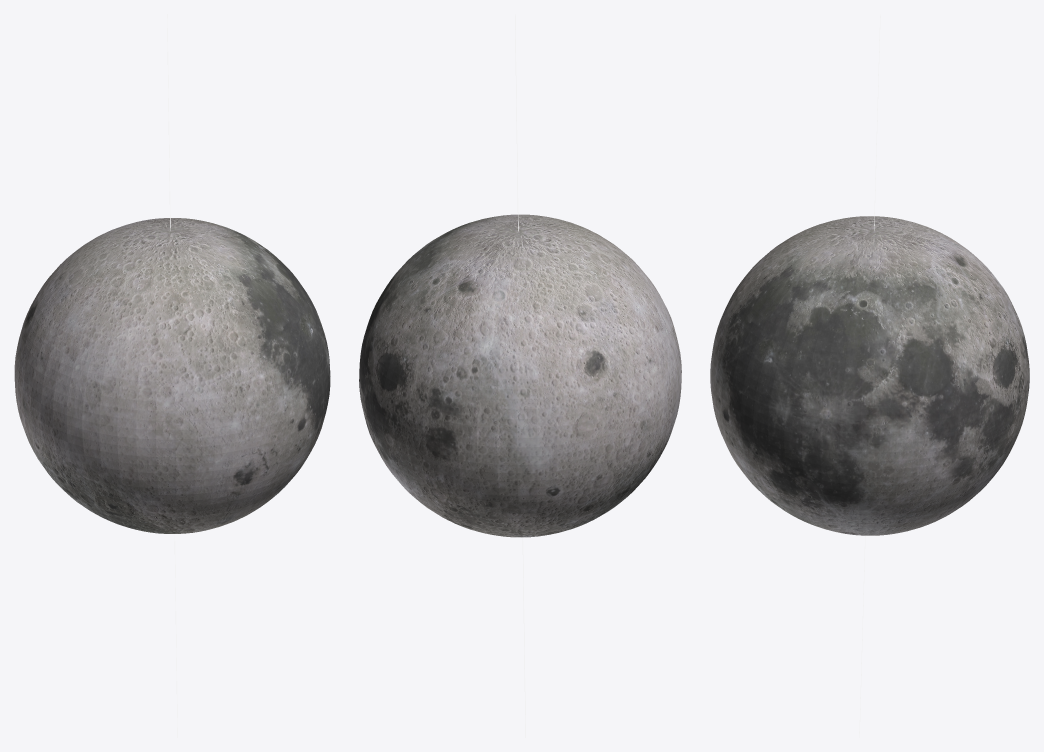
Rendered from Moon.glb.
The picture shows the model from 3 angles, left to right: view 1: azimuth 30°, elevation 25°; view 2: azimuth 150°, elevation 25°; view 3: azimuth 270°, elevation 25°; orthographic projection. The views are drawn at different scales.
Parts seen in each view (by area): view 1: Sphere; view 2: Sphere; view 3: Sphere.
Boxes of the visible parts, box(x1,y1,x2,y2) form: Sphere: box(14, 218, 330, 533); Sphere: box(359, 214, 681, 537); Sphere: box(710, 216, 1029, 535).
Bounding box in the file's own units: 2 × 5 × 2.
2 materials, 1 textured.
